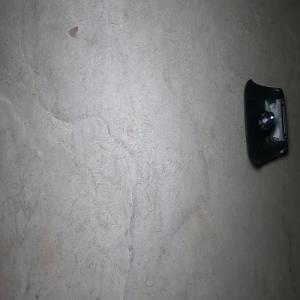LuggagePart: (243, 77, 289, 167)
